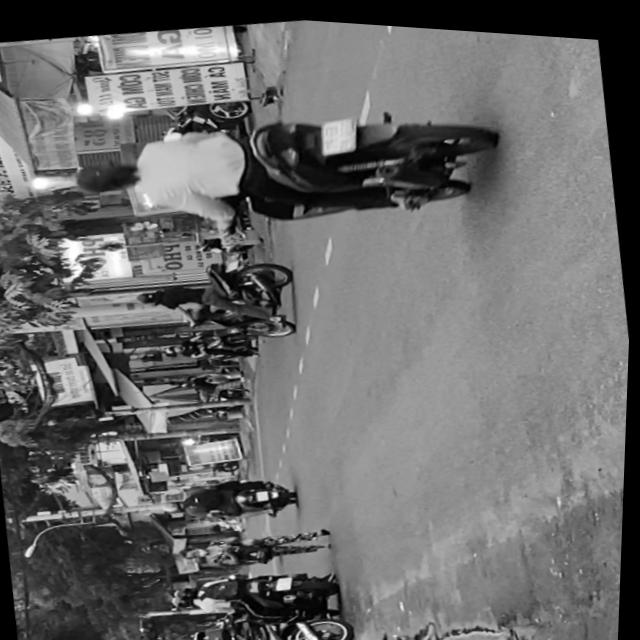helmet: (134, 285, 161, 303), (177, 581, 203, 599), (174, 590, 200, 606)
licenseplate: (64, 68, 508, 261), (129, 241, 309, 352), (170, 552, 349, 633)
motorcyclist: (72, 152, 140, 197)
nohelmet: (319, 110, 359, 151), (279, 572, 298, 586)
